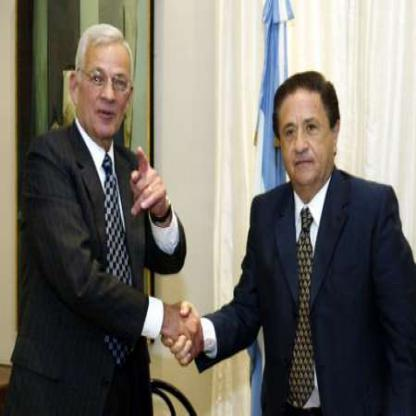face: (277, 79, 335, 188), (81, 29, 133, 140)
